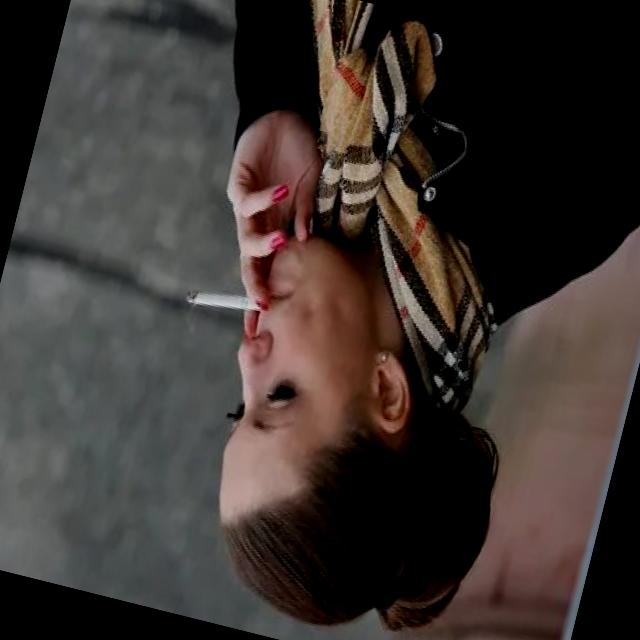cigarette: (184, 270, 273, 328)
